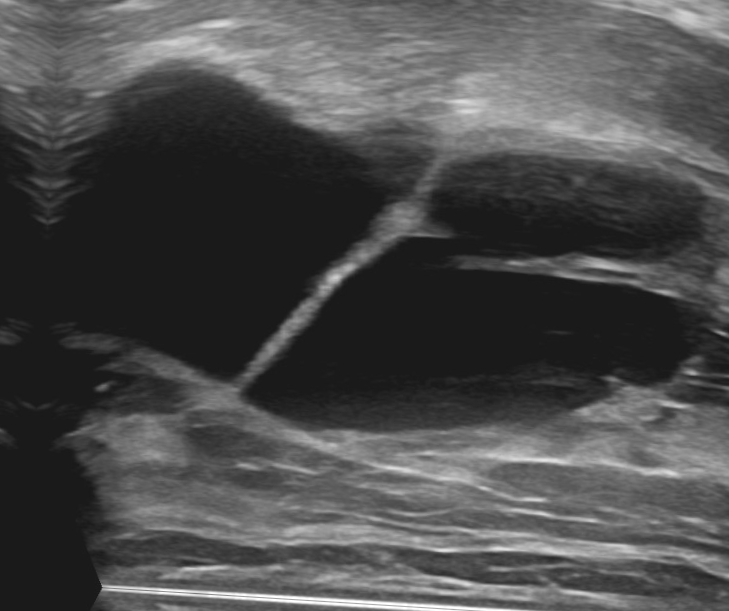Benign: (64, 71, 370, 374)
